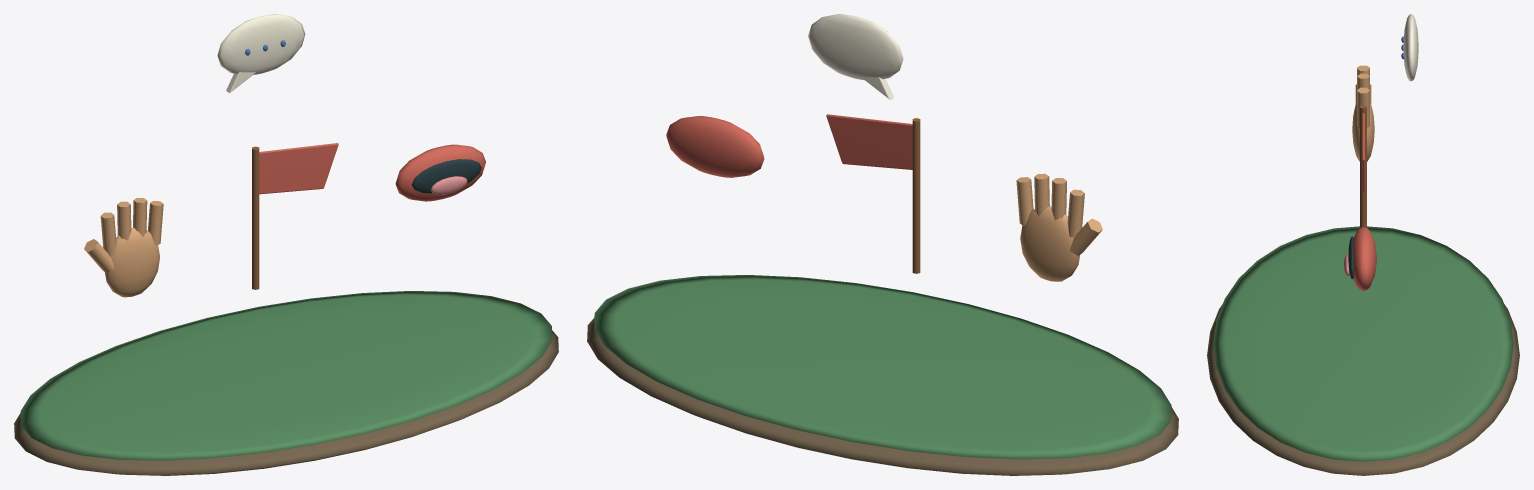
The model's file is complete-third-hand-summons-breath.glb.
3 views of the same model, side by side, from view 1: azimuth 30°, elevation 25°; view 2: azimuth 150°, elevation 25°; view 3: azimuth 270°, elevation 25° (orthographic). The views are drawn at different scales.
Visible parts, largest first — view 1: complete-third-hand-summons-breath_surface_01, complete-third-hand-summons-breath_surface_00, complete-third-hand-summons-breath_surface_04, complete-third-hand-summons-breath_surface_02, complete-third-hand-summons-breath_surface_07, complete-third-hand-summons-breath_surface_05, complete-third-hand-summons-breath_surface_03; view 2: complete-third-hand-summons-breath_surface_01, complete-third-hand-summons-breath_surface_00, complete-third-hand-summons-breath_surface_04, complete-third-hand-summons-breath_surface_02, complete-third-hand-summons-breath_surface_07, complete-third-hand-summons-breath_surface_03; view 3: complete-third-hand-summons-breath_surface_01, complete-third-hand-summons-breath_surface_00, complete-third-hand-summons-breath_surface_04, complete-third-hand-summons-breath_surface_02, complete-third-hand-summons-breath_surface_07, complete-third-hand-summons-breath_surface_03.
Boxes of the visible parts, x1,y1,x2,y2 form: complete-third-hand-summons-breath_surface_01: (20, 291, 552, 460); complete-third-hand-summons-breath_surface_00: (14, 330, 558, 475); complete-third-hand-summons-breath_surface_04: (259, 143, 485, 201); complete-third-hand-summons-breath_surface_02: (84, 197, 163, 297); complete-third-hand-summons-breath_surface_07: (217, 14, 305, 92); complete-third-hand-summons-breath_surface_05: (412, 159, 481, 193); complete-third-hand-summons-breath_surface_03: (252, 146, 259, 289); complete-third-hand-summons-breath_surface_01: (594, 275, 1171, 459); complete-third-hand-summons-breath_surface_00: (587, 318, 1178, 475); complete-third-hand-summons-breath_surface_04: (666, 114, 912, 177); complete-third-hand-summons-breath_surface_02: (1016, 173, 1102, 281); complete-third-hand-summons-breath_surface_07: (808, 14, 903, 99); complete-third-hand-summons-breath_surface_03: (912, 118, 920, 273); complete-third-hand-summons-breath_surface_01: (1213, 226, 1513, 461); complete-third-hand-summons-breath_surface_00: (1207, 304, 1519, 475); complete-third-hand-summons-breath_surface_04: (1353, 113, 1376, 290); complete-third-hand-summons-breath_surface_02: (1352, 65, 1374, 161); complete-third-hand-summons-breath_surface_07: (1403, 14, 1418, 81); complete-third-hand-summons-breath_surface_03: (1360, 105, 1366, 227).
Bounding box in the file's own units: 4.56 × 3.08 × 2.5.
